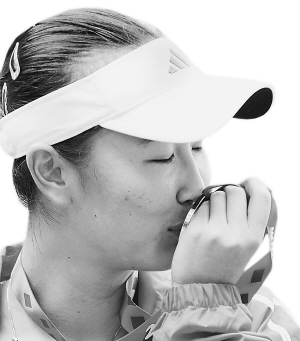face: (73, 76, 210, 275)
